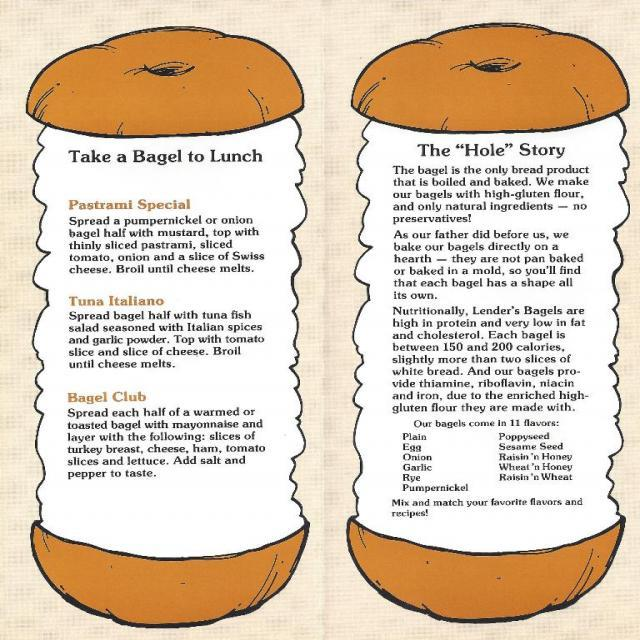Sandwich: (25, 25, 313, 632), (343, 21, 632, 623)
